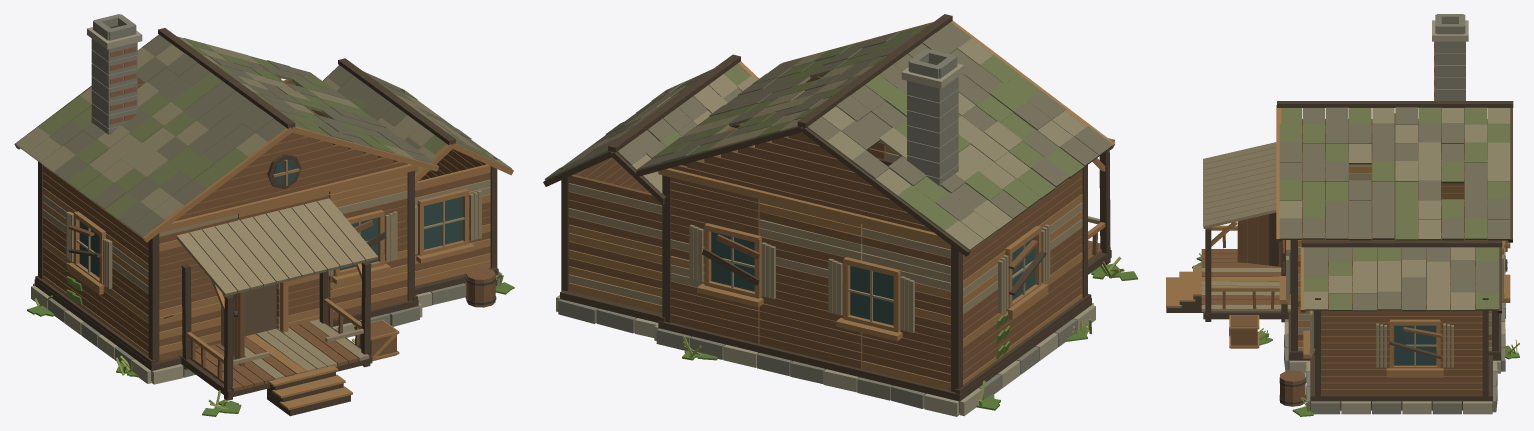
The model's file is StarterHouse.glb.
3 renders of one model, left to right at view 1: azimuth 30°, elevation 25°; view 2: azimuth 150°, elevation 25°; view 3: azimuth 270°, elevation 25°, orthographic. The views are drawn at different scales.
Parts seen in each view (by area): view 1: HI_Walls_Timber, HI_Roof_Roof, HI_Porch_FadedWood, HI_Walls_HoneyWood, HI_Roof_RoofMoss, HI_Roof_RoofLight, HI_Porch_DarkWood, HI_Walls_DarkWood, HI_Windows_HoneyWood, HI_Chimney_Stone, HI_Foundation_DarkWood, HI_Porch_Timber (+20 smaller); view 2: HI_Walls_Timber, HI_Roof_Roof, HI_Walls_HoneyWood, HI_Roof_RoofMoss, HI_Roof_RoofLight, HI_Walls_FadedWood, HI_Windows_HoneyWood, HI_Chimney_Stone, HI_Walls_DarkWood, HI_Foundation_Stone, HI_Windows_FadedWood, HI_Foundation_DarkWood (+14 smaller); view 3: HI_Roof_Roof, HI_Walls_Timber, HI_Roof_RoofMoss, HI_Porch_FadedWood, HI_Roof_RoofLight, HI_WingRoof_Roof, HI_WingRoof_RoofLight, HI_WingRoof_RoofMoss, HI_Chimney_Stone, HI_Windows_HoneyWood, HI_Walls_DarkWood, HI_Roof_DarkWood (+18 smaller).
Boxes of the visible parts, bbox=[...] form: HI_Walls_Timber: bbox=[43, 77, 490, 361]; HI_Roof_Roof: bbox=[49, 35, 437, 236]; HI_Porch_FadedWood: bbox=[176, 198, 377, 379]; HI_Walls_HoneyWood: bbox=[43, 109, 490, 356]; HI_Roof_RoofMoss: bbox=[38, 38, 401, 220]; HI_Roof_RoofLight: bbox=[16, 36, 416, 219]; HI_Porch_DarkWood: bbox=[179, 261, 372, 416]; HI_Walls_DarkWood: bbox=[35, 84, 497, 364]; HI_Windows_HoneyWood: bbox=[68, 160, 475, 294]; HI_Chimney_Stone: bbox=[91, 14, 137, 134]; HI_Foundation_DarkWood: bbox=[34, 267, 498, 380]; HI_Porch_Timber: bbox=[189, 306, 359, 391]; HI_Walls_Timber: bbox=[568, 74, 1082, 382]; HI_Roof_Roof: bbox=[637, 22, 1112, 221]; HI_Walls_HoneyWood: bbox=[568, 82, 1082, 390]; HI_Roof_RoofMoss: bbox=[651, 24, 1084, 231]; HI_Roof_RoofLight: bbox=[681, 38, 1086, 250]; HI_Walls_FadedWood: bbox=[568, 152, 1082, 313]; HI_Windows_HoneyWood: bbox=[697, 223, 1048, 341]; HI_Chimney_Stone: bbox=[907, 49, 958, 185]; HI_Walls_DarkWood: bbox=[561, 89, 1091, 394]; HI_Foundation_Stone: bbox=[558, 299, 1077, 408]; HI_Windows_FadedWood: bbox=[689, 224, 1050, 332]; HI_Foundation_DarkWood: bbox=[560, 290, 1091, 412]; HI_Roof_Roof: bbox=[1279, 107, 1510, 240]; HI_Walls_Timber: bbox=[1298, 119, 1491, 395]; HI_Roof_RoofMoss: bbox=[1279, 107, 1510, 240]; HI_Porch_FadedWood: bbox=[1201, 142, 1290, 311]; HI_Roof_RoofLight: bbox=[1279, 108, 1510, 240]; HI_WingRoof_Roof: bbox=[1304, 247, 1499, 311]; HI_WingRoof_RoofLight: bbox=[1304, 247, 1474, 311]; HI_WingRoof_RoofMoss: bbox=[1304, 247, 1499, 310]; HI_Chimney_Stone: bbox=[1435, 14, 1465, 137]; HI_Windows_HoneyWood: bbox=[1279, 240, 1510, 377]; HI_Walls_DarkWood: bbox=[1289, 240, 1500, 398]; HI_Roof_DarkWood: bbox=[1277, 101, 1513, 242].
Bounding box in the file's own units: 6.81 × 4.74 × 5.91.
